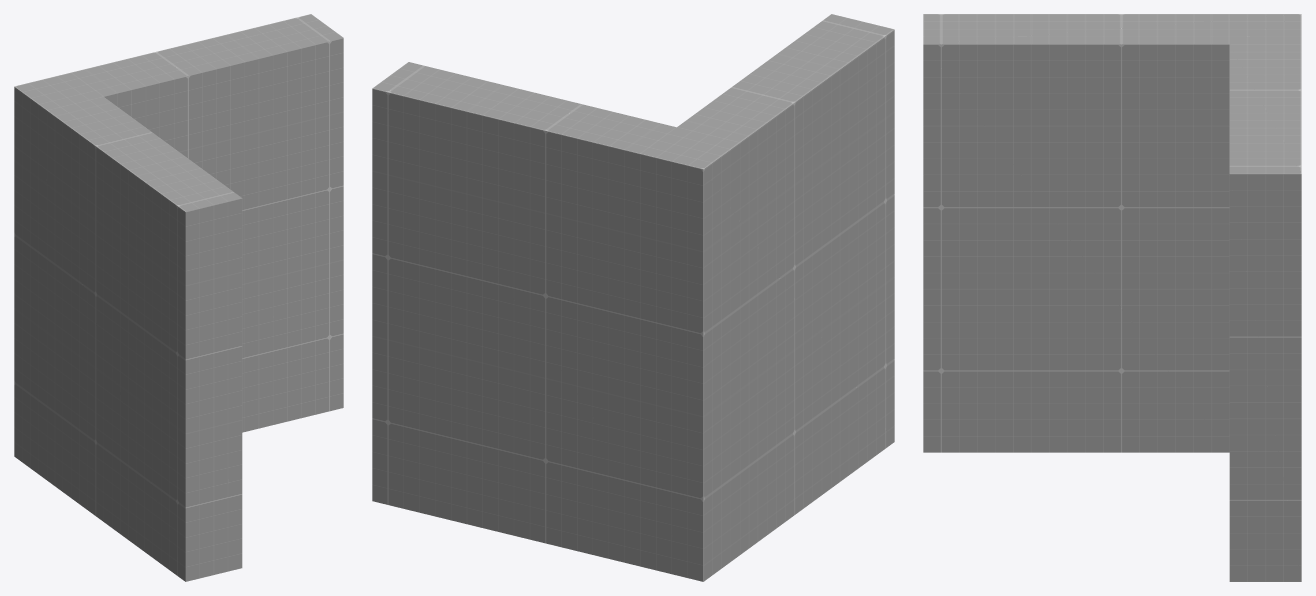
Rendered from Corner_2x2_Thick.002.fbx.
3 renders of one model, left to right at view 1: azimuth 30°, elevation 25°; view 2: azimuth 150°, elevation 25°; view 3: azimuth 270°, elevation 25°, orthographic. The views are drawn at different scales.
Visible parts, largest first — view 1: Corner_2x2_Thick.002; view 2: Corner_2x2_Thick.002; view 3: Corner_2x2_Thick.002.
Boxes of the visible parts, x1,y1,x2,y2 form: Corner_2x2_Thick.002: (14,14,343,581); Corner_2x2_Thick.002: (372,14,894,581); Corner_2x2_Thick.002: (923,14,1301,581).
Bounding box in the file's own units: 210 × 250 × 210.
